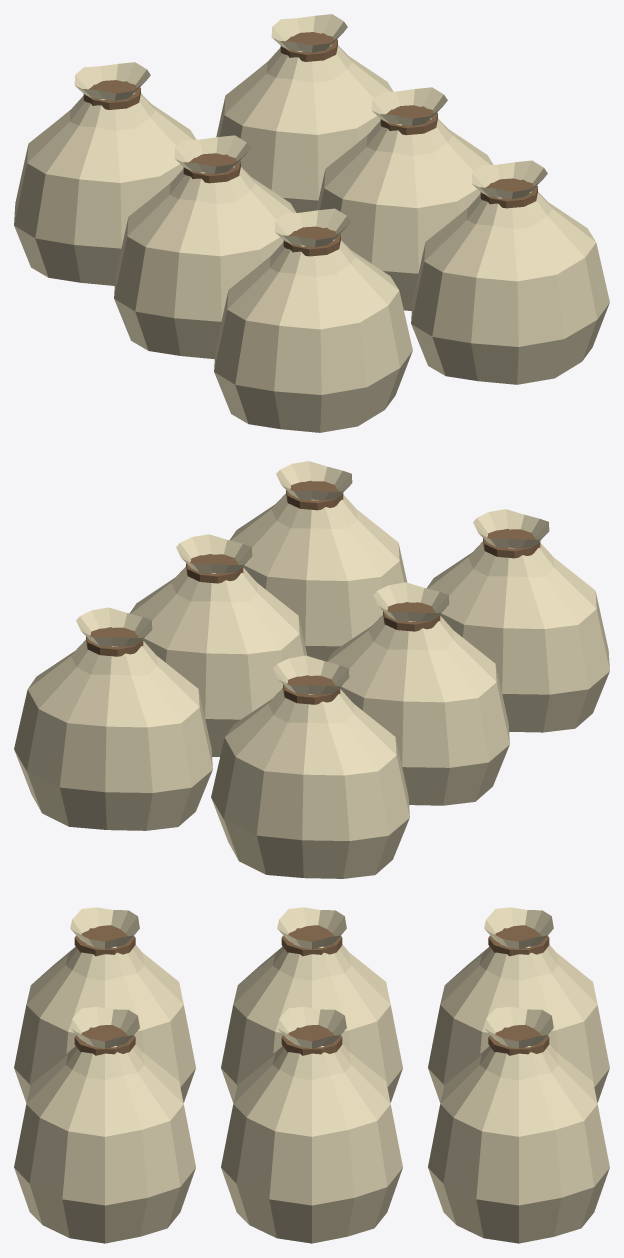
The model's file is grain_load.glb.
The picture shows the model from 3 angles, top to bottom: view 1: azimuth 30°, elevation 25°; view 2: azimuth 150°, elevation 25°; view 3: azimuth 270°, elevation 25°; orthographic projection. The views are drawn at different scales.
Visible parts, largest first — view 1: LinenGrainSacks; view 2: LinenGrainSacks; view 3: LinenGrainSacks.
Part boxes in pixels (box(x1,y1,x2,y2)): LinenGrainSacks: box(14, 14, 609, 432); LinenGrainSacks: box(14, 461, 609, 878); LinenGrainSacks: box(14, 907, 609, 1243).
Bounding box in the file's own units: 1.1 × 0.5437 × 1.47.
